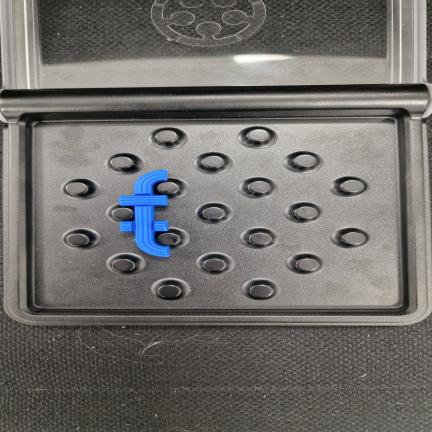C_DarkBlue: (120, 170, 170, 257)
board: (1, 84, 432, 325)
hinge: (0, 88, 429, 120)
pin: (249, 284, 274, 299), (157, 284, 181, 299), (340, 179, 365, 193), (341, 231, 366, 245), (295, 258, 320, 272), (157, 231, 180, 246), (293, 154, 317, 168), (201, 155, 225, 169), (248, 232, 272, 246), (155, 129, 178, 143), (157, 181, 180, 195), (202, 206, 225, 220), (66, 233, 89, 247), (203, 258, 226, 272), (112, 258, 135, 272), (246, 129, 270, 142), (110, 156, 134, 169), (247, 181, 271, 194), (294, 206, 318, 219), (111, 207, 133, 221), (65, 182, 88, 195)
